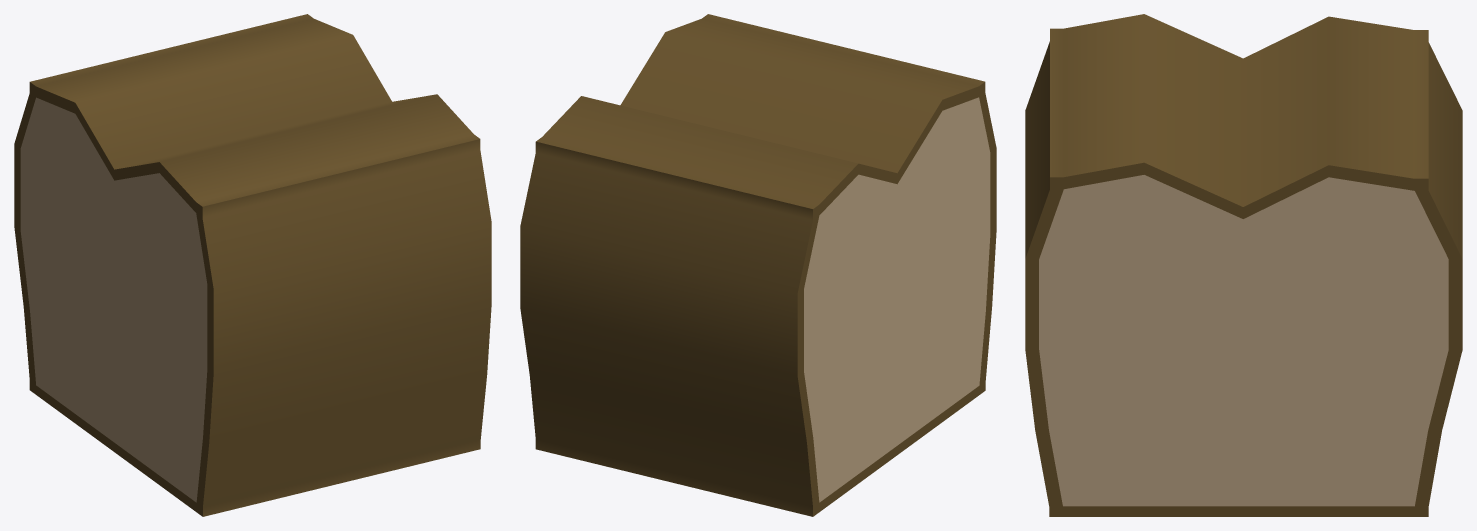
File: Bread_loaf.fbx
3 renders of one model, left to right at view 1: azimuth 30°, elevation 25°; view 2: azimuth 150°, elevation 25°; view 3: azimuth 270°, elevation 25°, orthographic. The views are drawn at different scales.
Parts seen in each view (by area): view 1: Bread_Loaf; view 2: Bread_Loaf; view 3: Bread_Loaf.
Boxes of the visible parts, x1,y1,x2,y2 form: Bread_Loaf: [14, 14, 491, 516]; Bread_Loaf: [520, 14, 996, 516]; Bread_Loaf: [1025, 14, 1462, 516].
Size of the model in its own units: 17 by 18.89 by 21.14.
